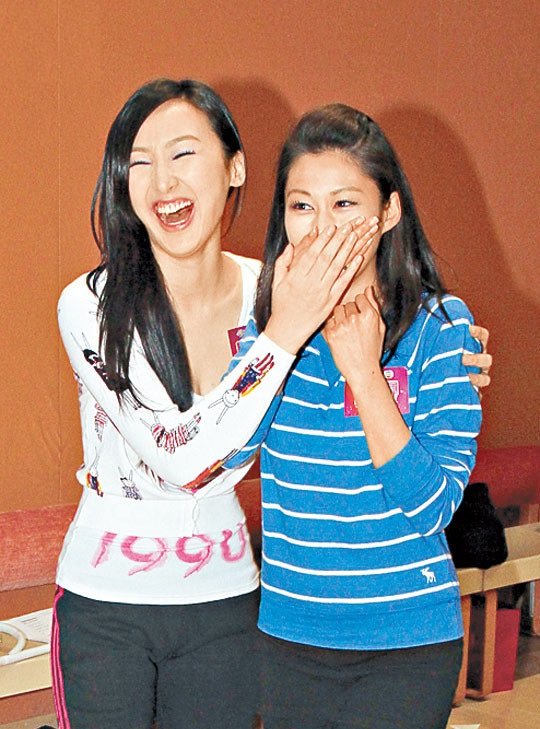face: (129, 99, 224, 256), (284, 145, 379, 298)
